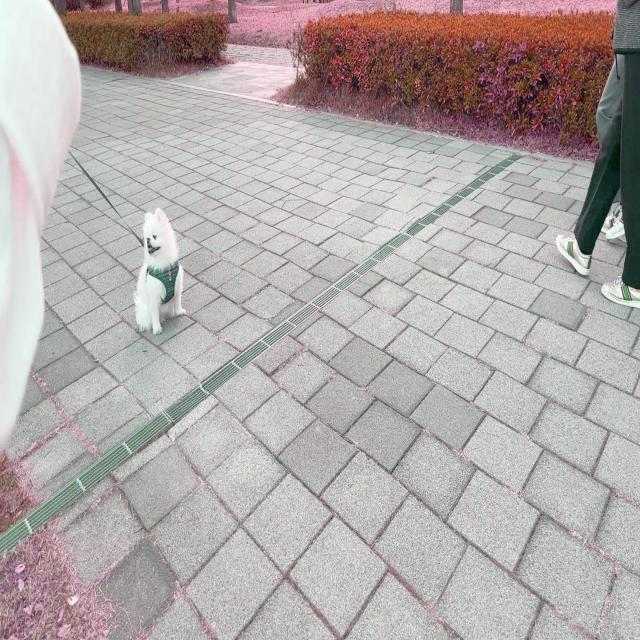Dog: (133, 209, 187, 335)
